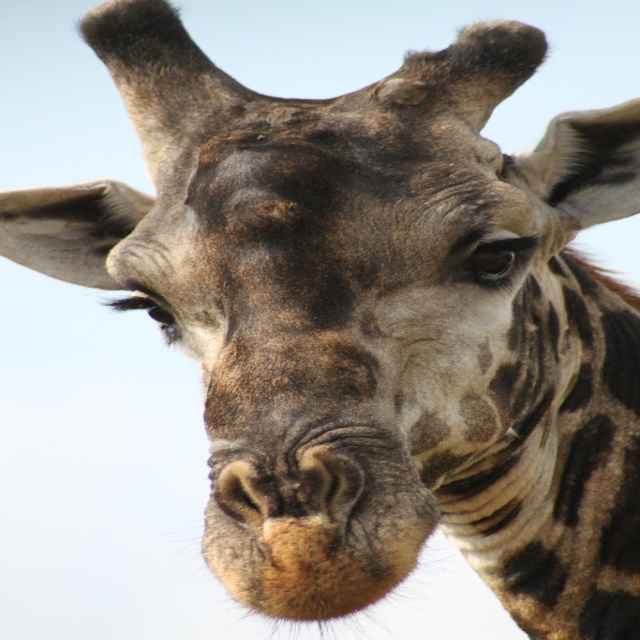Giraffe: (48, 6, 640, 640)
